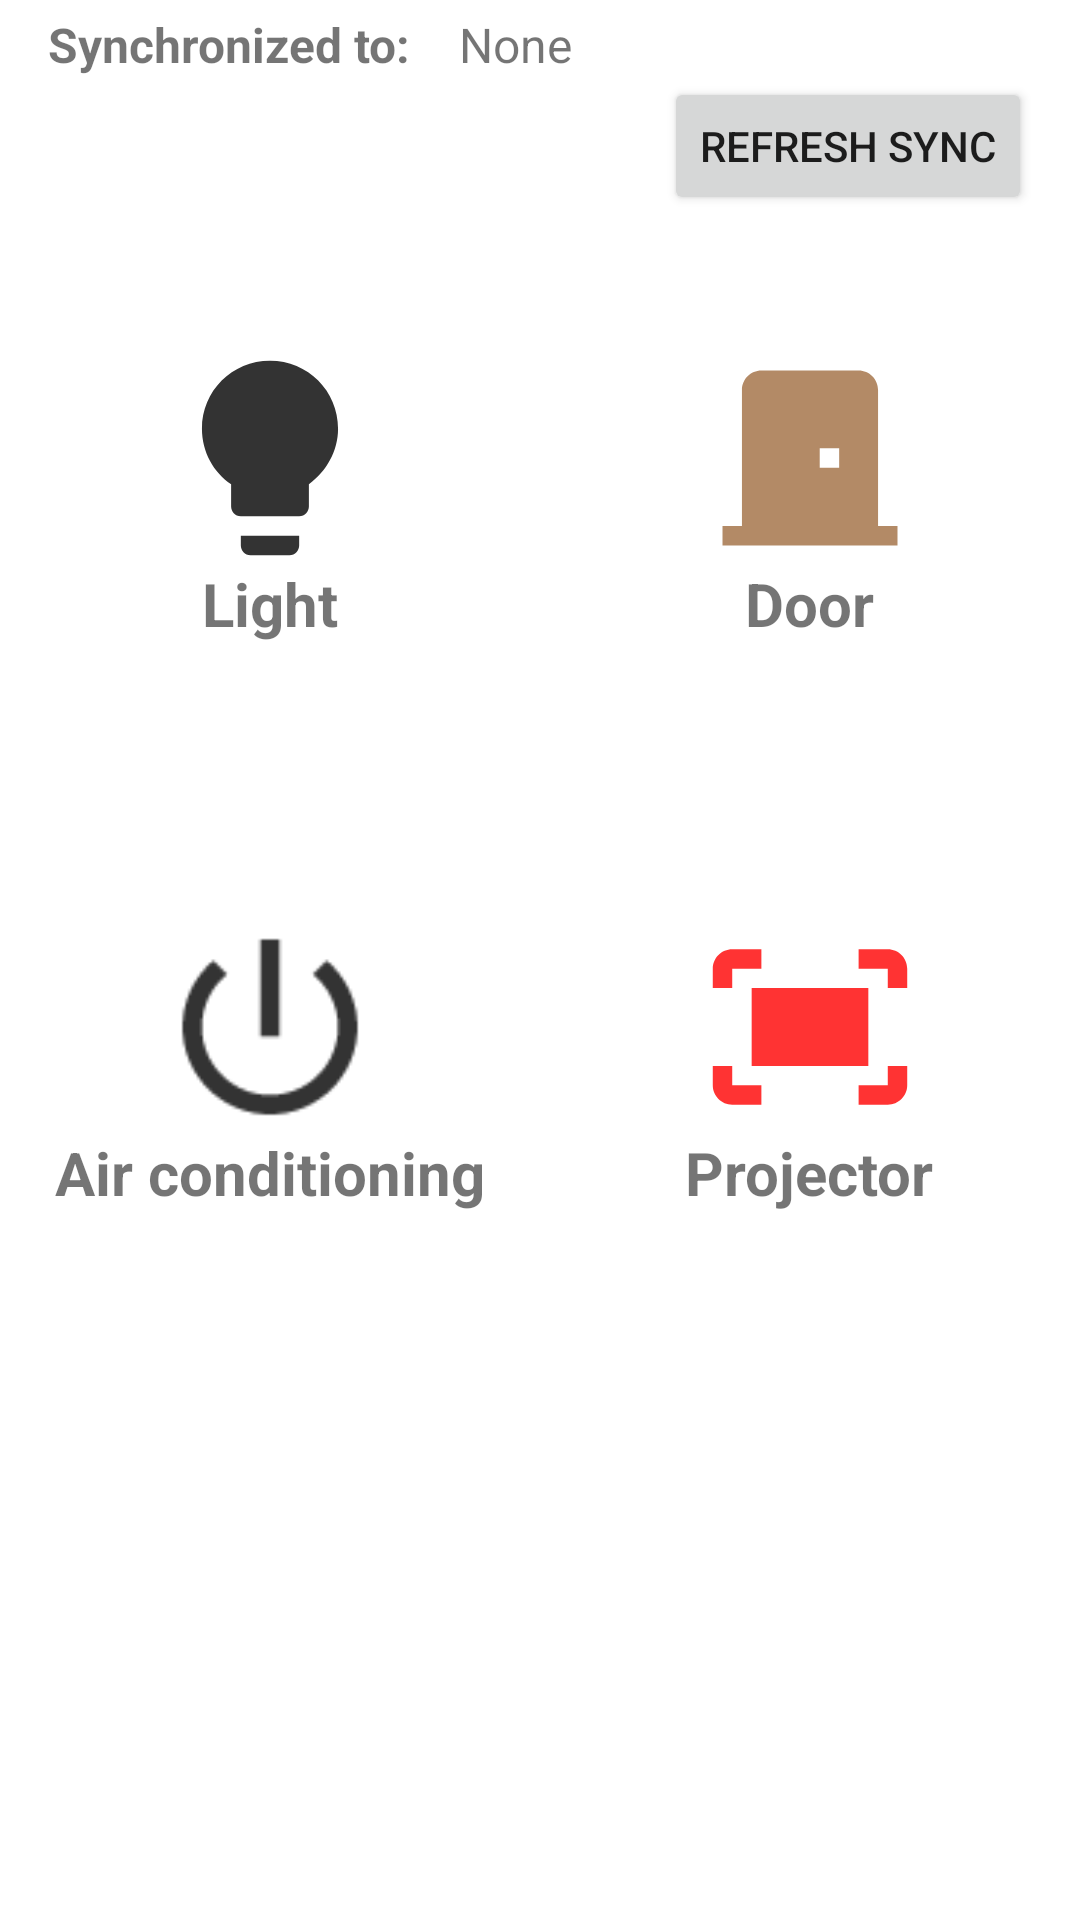

Named icons in this screenshot (1080 x 1920) and their bounding boxes, [x1,y1,x2,y2]:
power: [181,938,359,1116]
